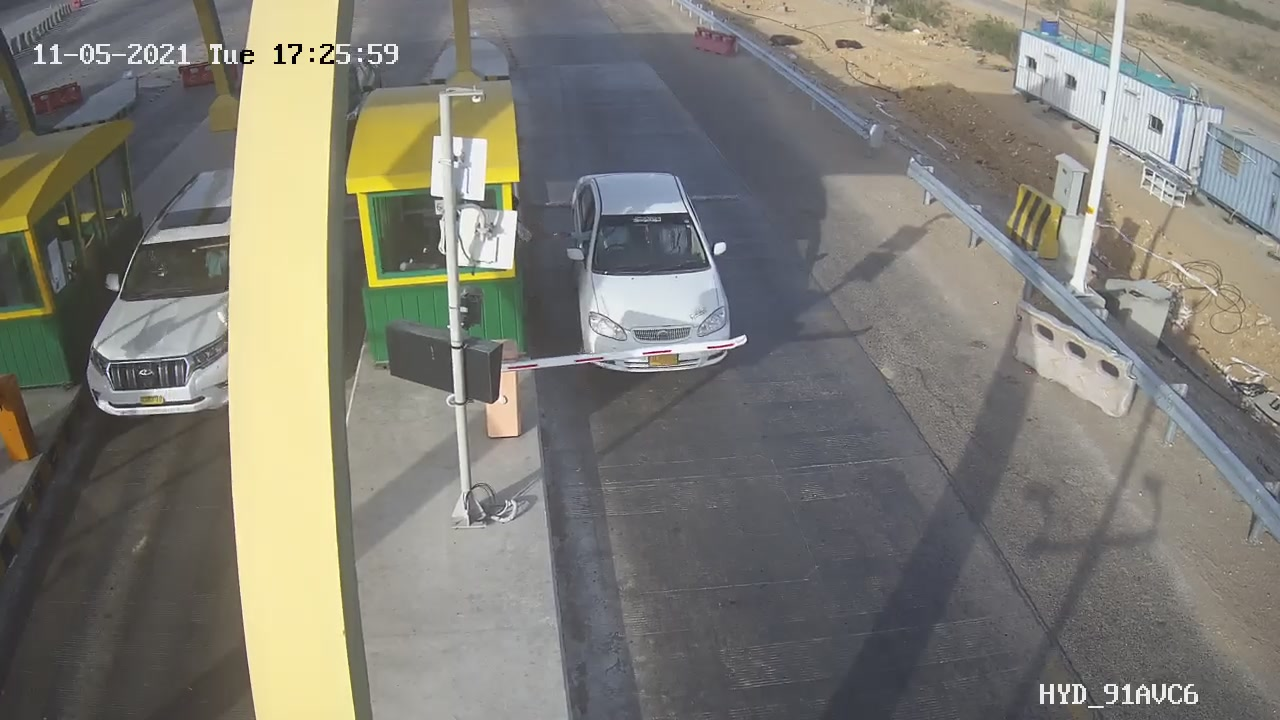F1: (544, 157, 755, 392)
